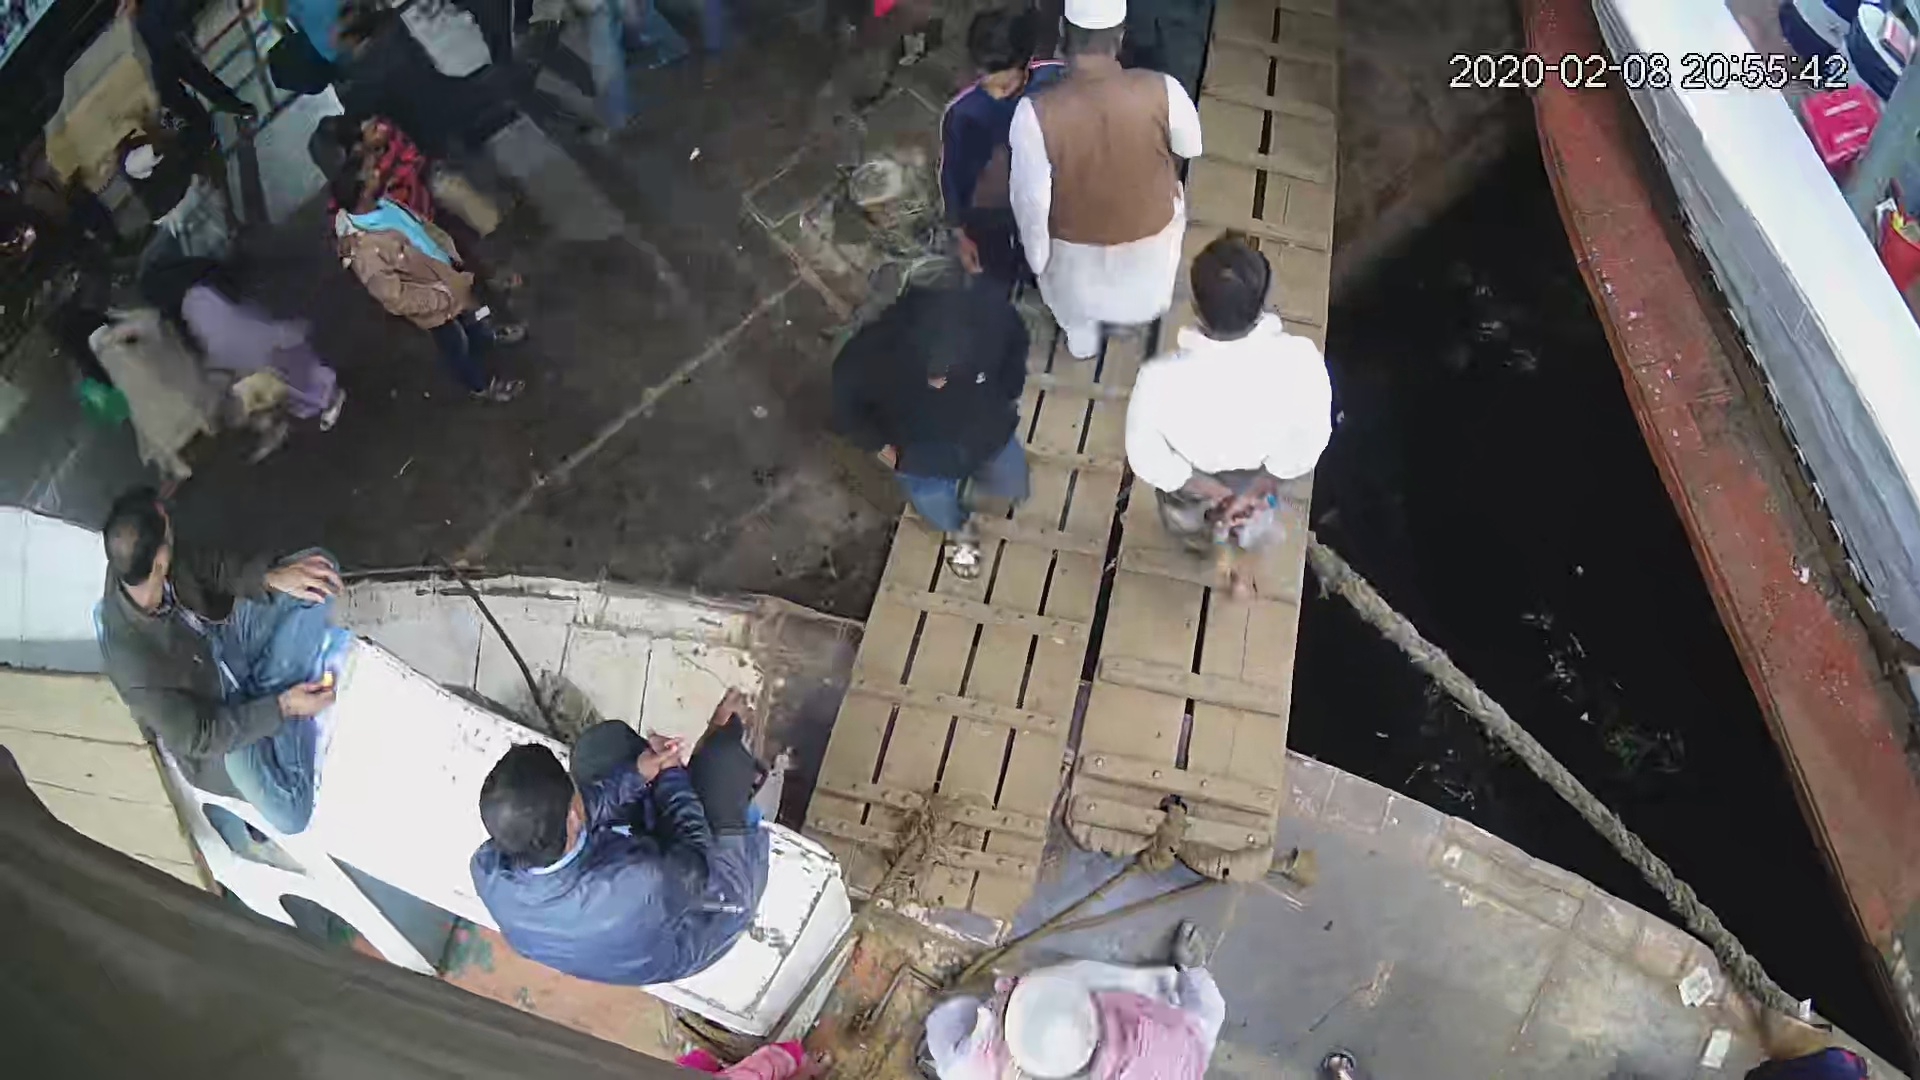person: (96, 484, 350, 838), (475, 691, 772, 979), (1110, 231, 1329, 571), (829, 270, 1033, 582), (1007, 5, 1192, 339), (899, 931, 1240, 1080), (336, 163, 535, 411), (47, 289, 213, 496), (929, 6, 1045, 301), (170, 275, 346, 464), (108, 106, 241, 257)
